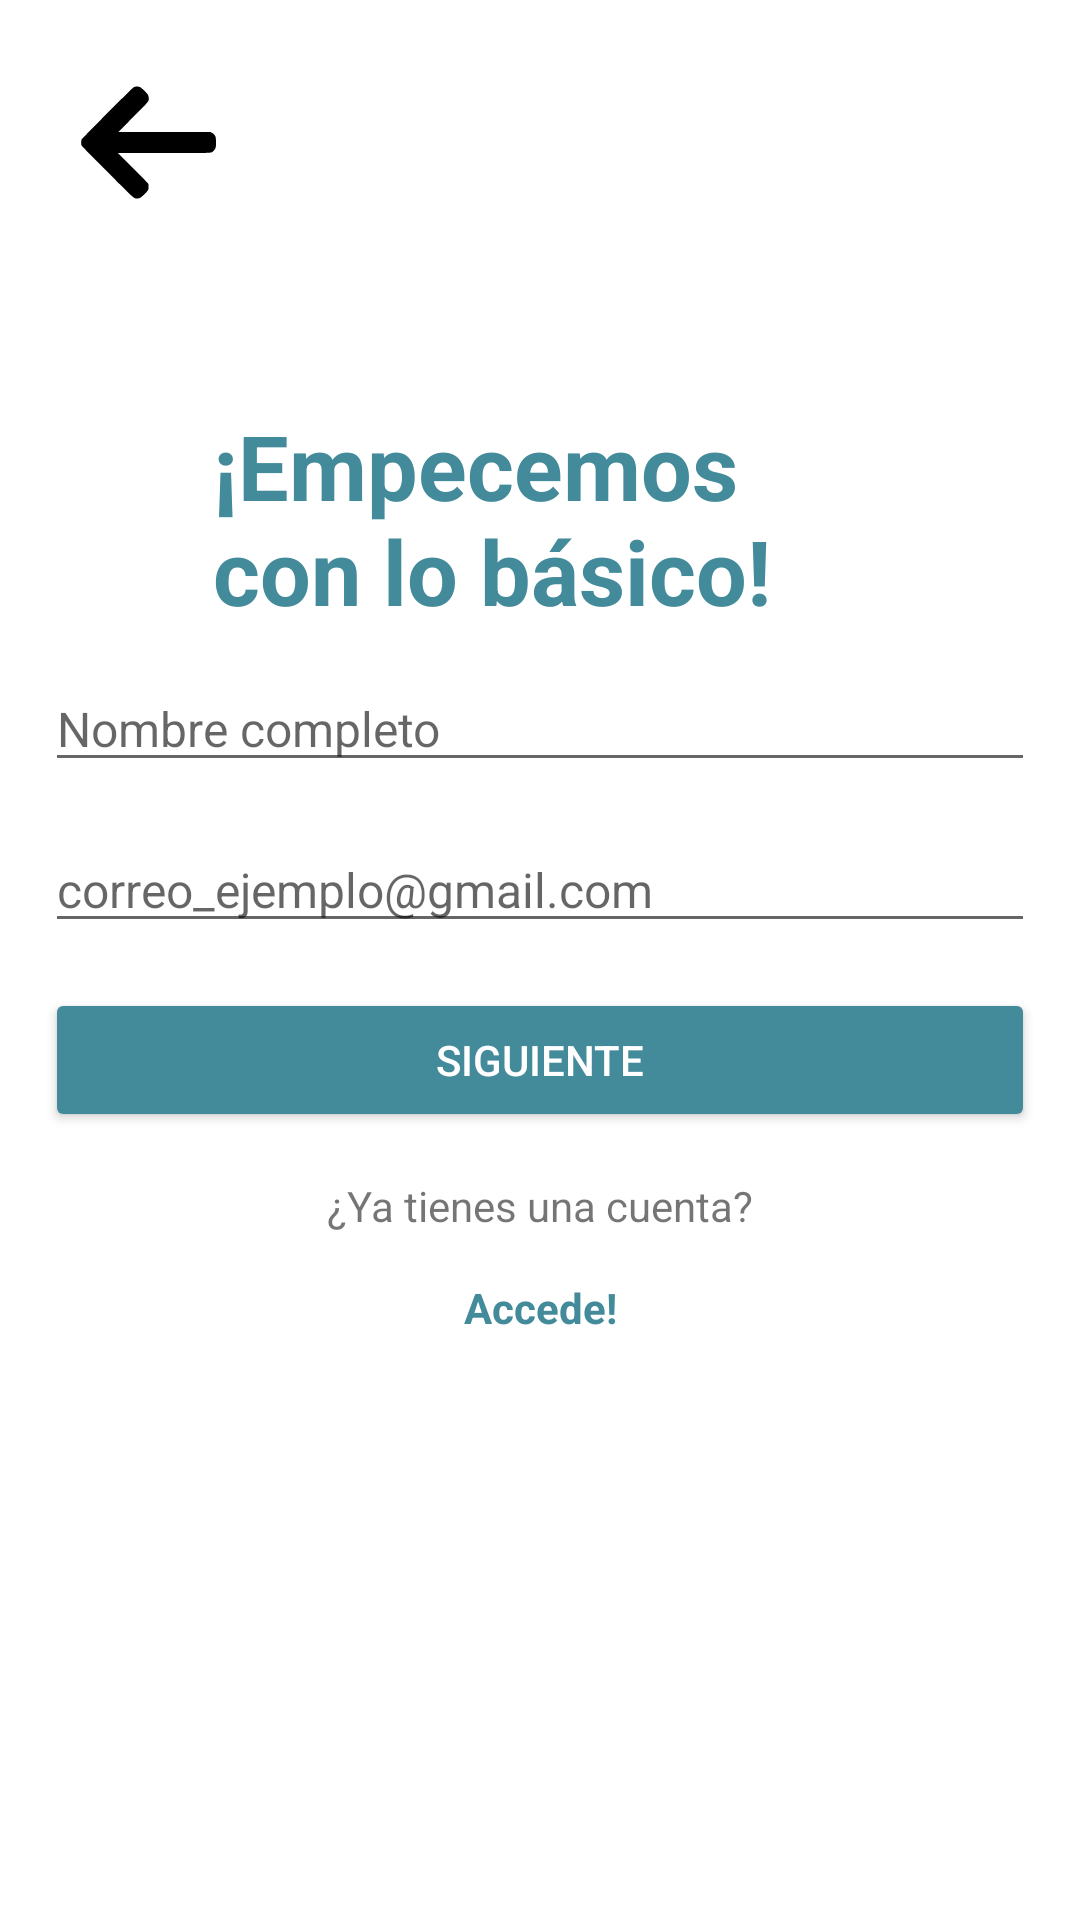

Screen size 1080 x 1920. Icon name, then its center in pixels as point (x, y):
back: point (148, 142)
